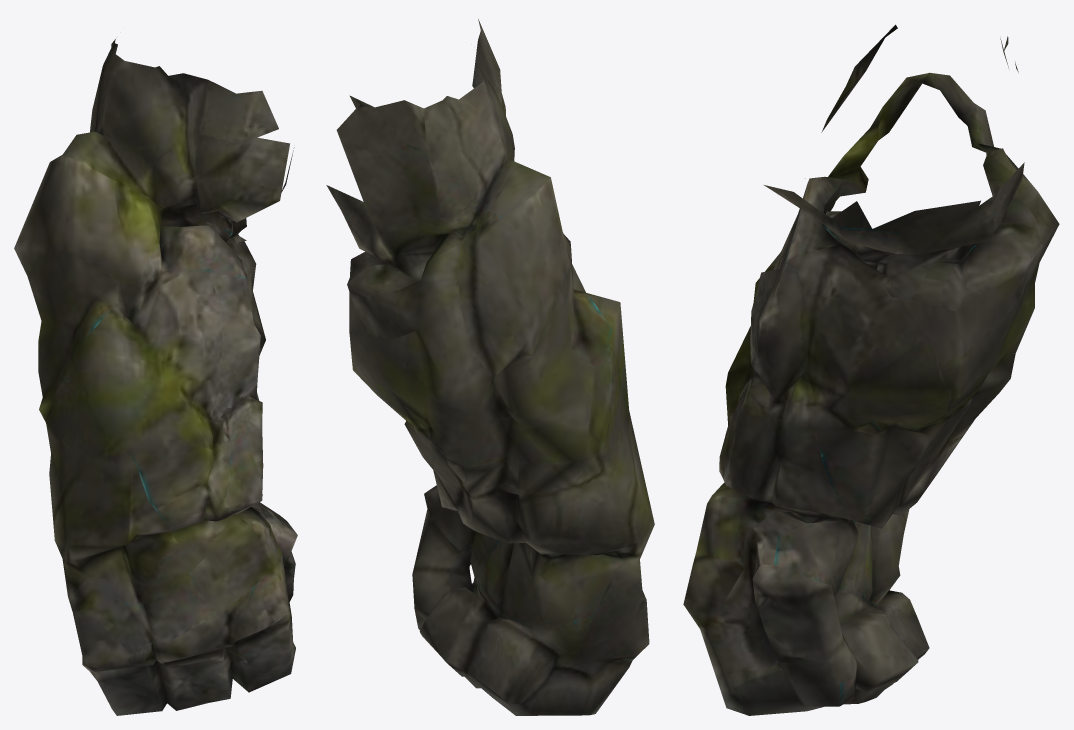
File: warden_arm_negx.glb
3 views of the same model, side by side, from view 1: azimuth 30°, elevation 25°; view 2: azimuth 150°, elevation 25°; view 3: azimuth 270°, elevation 25° (orthographic). The views are drawn at different scales.
Parts seen in each view (by area): view 1: warden_arm_negx; view 2: warden_arm_negx; view 3: warden_arm_negx.
Boxes of the visible parts, left/top/right/bottom form: warden_arm_negx: left=14, top=39, right=297, bottom=715; warden_arm_negx: left=326, top=19, right=654, bottom=715; warden_arm_negx: left=683, top=24, right=1059, bottom=715.
Size of the model in its own units: 3.55 by 8.22 by 4.04.
Materials: 1 (1 with a texture image).
